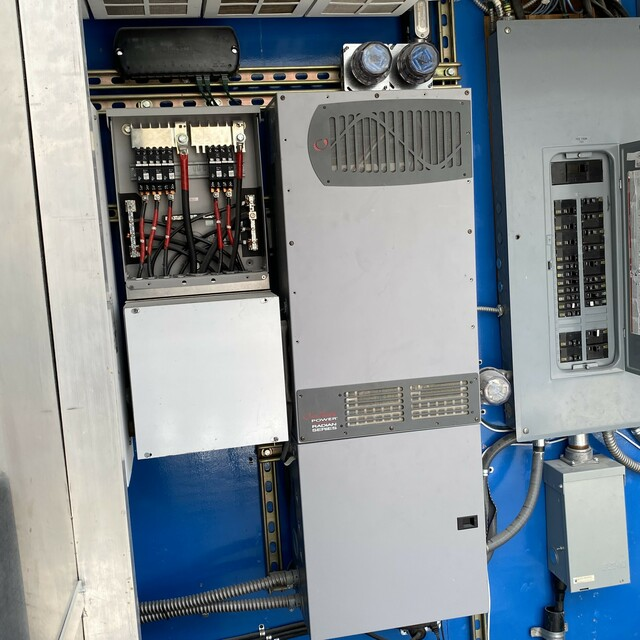inverter: (258, 76, 506, 640)
